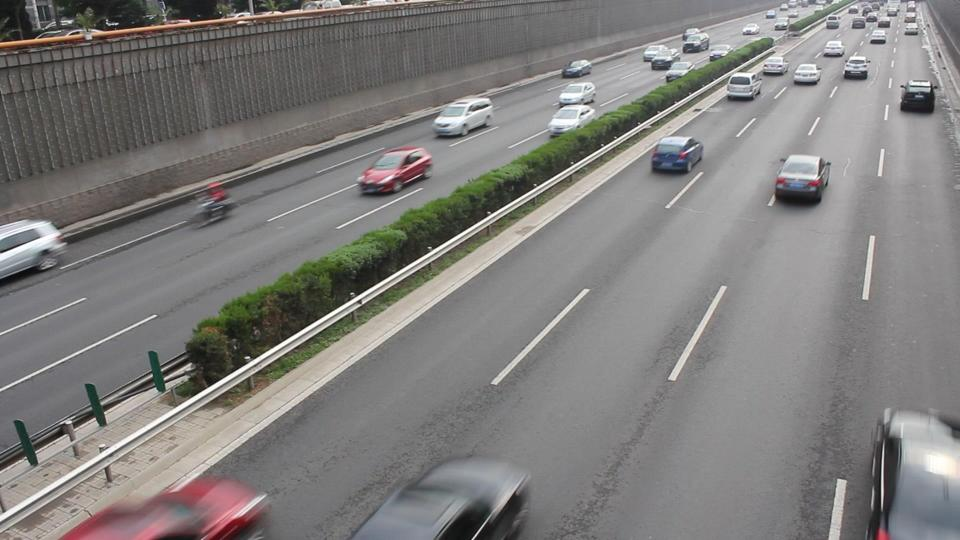bicycle: (191, 205, 239, 226)
car: (353, 443, 545, 540), (55, 466, 279, 540), (863, 401, 960, 540), (358, 146, 433, 195), (772, 154, 831, 204), (431, 97, 494, 138), (650, 136, 707, 175), (549, 106, 594, 136), (724, 72, 764, 101), (900, 80, 936, 111), (560, 82, 597, 105), (645, 47, 677, 70), (842, 58, 870, 80), (794, 63, 820, 85), (666, 62, 695, 81), (563, 60, 592, 78), (684, 33, 710, 53), (762, 58, 786, 75), (819, 42, 844, 58), (710, 44, 731, 60), (869, 30, 889, 45), (743, 23, 760, 35), (824, 15, 841, 27), (684, 28, 700, 40), (904, 23, 920, 35), (774, 18, 789, 30), (851, 18, 866, 30), (879, 16, 891, 27), (905, 13, 917, 23), (765, 9, 777, 17), (848, 5, 859, 13), (867, 11, 876, 20), (887, 8, 897, 16), (788, 10, 799, 16)
person: (207, 173, 230, 216)
